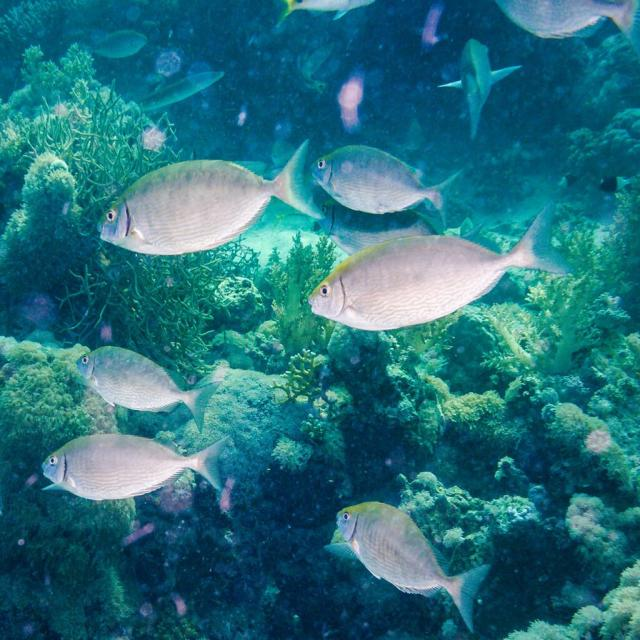Sokar Baligi: (91, 128, 320, 262), (330, 488, 495, 638), (34, 426, 238, 506)
